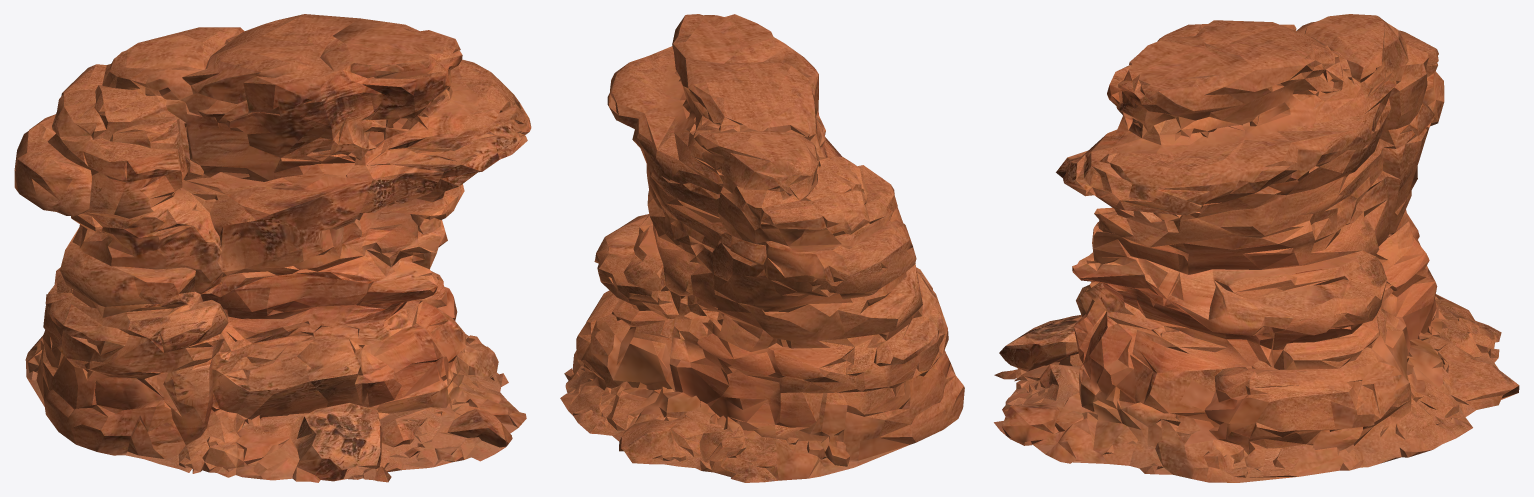
Rendered from rock.glb.
The picture shows the model from 3 angles, left to right: view 1: azimuth 30°, elevation 25°; view 2: azimuth 150°, elevation 25°; view 3: azimuth 270°, elevation 25°; orthographic projection. The views are drawn at different scales.
Visible parts, largest first — view 1: Mesh_0; view 2: Mesh_0; view 3: Mesh_0.
Boxes of the visible parts, x1,y1,x2,y2 form: Mesh_0: (14, 14, 531, 482); Mesh_0: (560, 14, 964, 482); Mesh_0: (994, 14, 1519, 482).
Size of the model in its own units: 1.75 by 1.43 by 1.9.
Materials: 1 (1 with a texture image).
